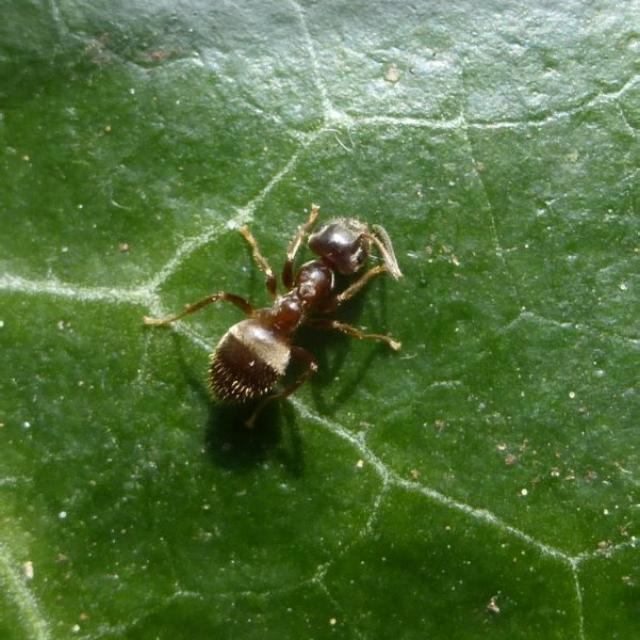Lasius: (168, 160, 384, 416)
